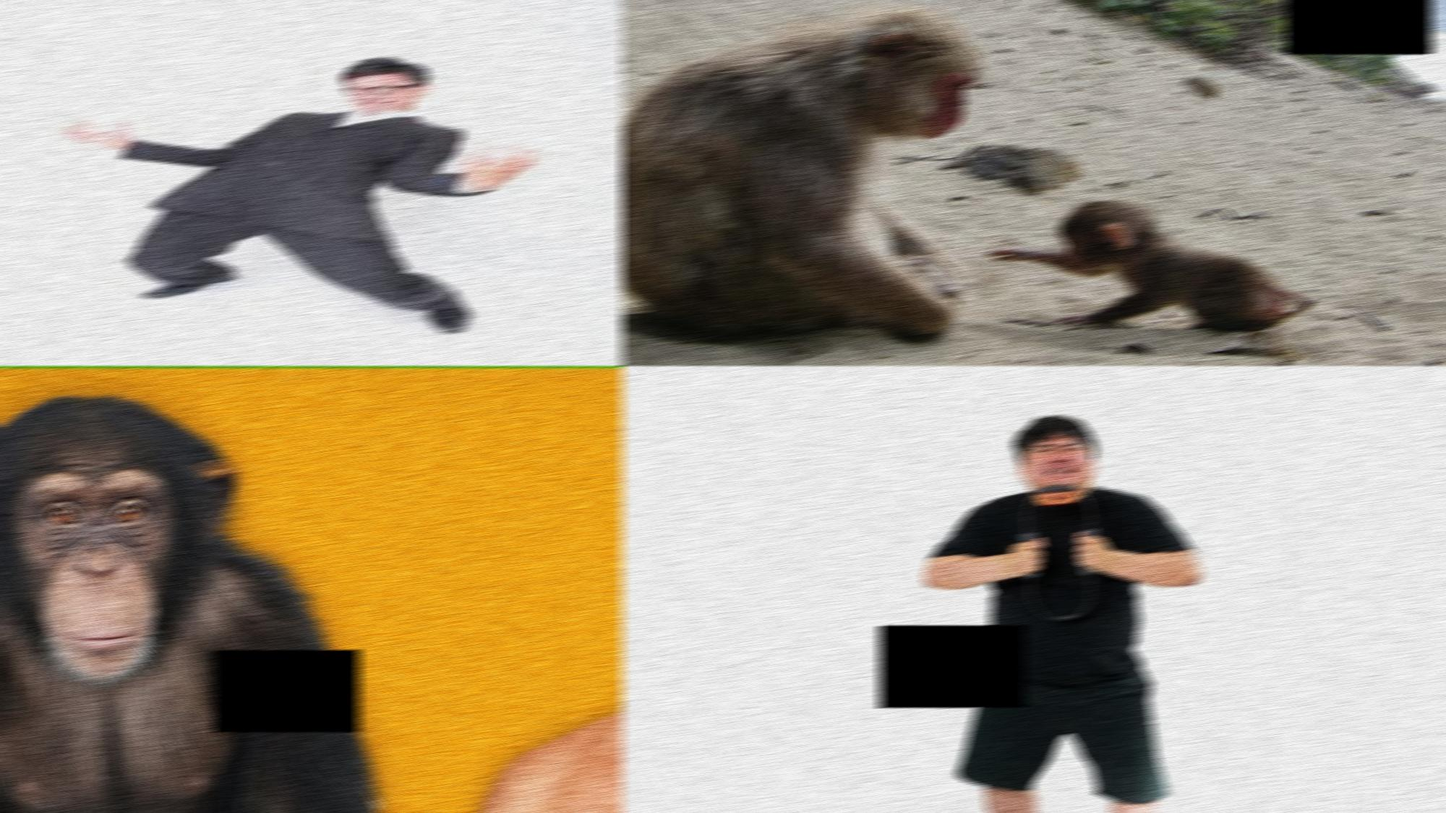Macaca fuscata: (620, 16, 984, 345), (987, 198, 1315, 339)
chimpanzee: (0, 396, 378, 813)
human: (62, 56, 503, 335), (923, 411, 1170, 813), (410, 452, 624, 813)
